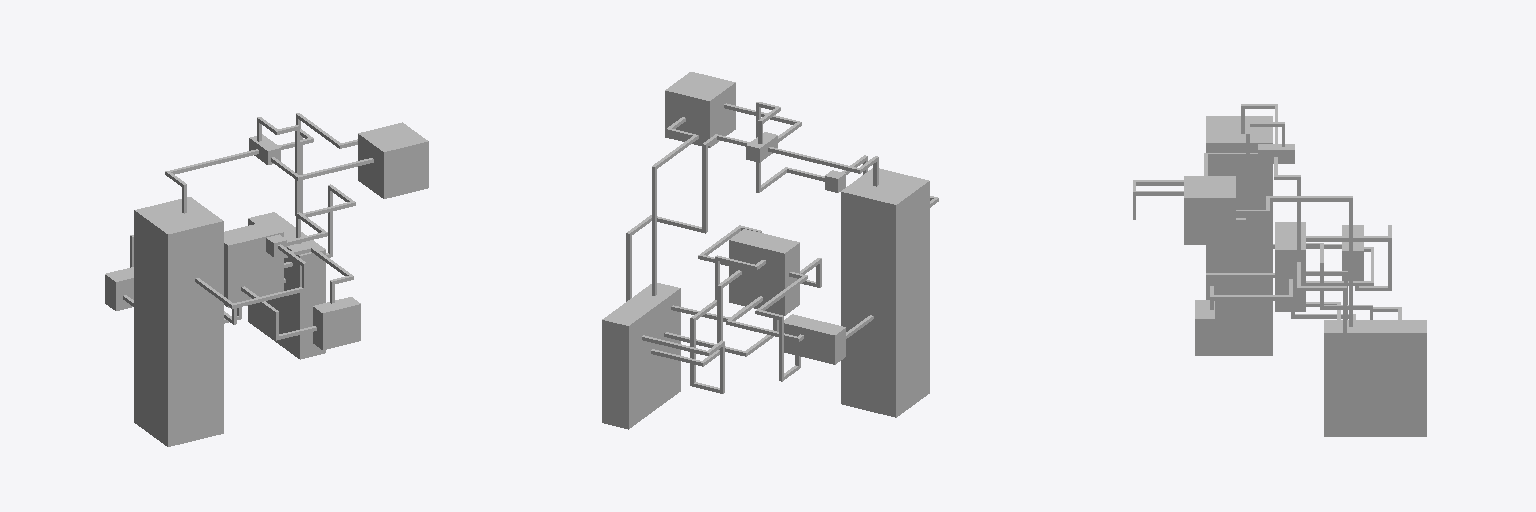
Rendered from modelA.obj.
3 views of the same model, side by side, from view 1: azimuth 30°, elevation 25°; view 2: azimuth 150°, elevation 25°; view 3: azimuth 270°, elevation 25° (orthographic).
Visible parts, largest first — view 1: group[number redacted], group[number redacted], group[number redacted], group[number redacted], group[number redacted], group[number redacted], group[number redacted]; view 2: group[number redacted], group[number redacted], group[number redacted], group[number redacted], group[number redacted], group[number redacted], group[number redacted]; view 3: group[number redacted], group[number redacted], group[number redacted], group[number redacted], group[number redacted], group[number redacted], group[number redacted].
Boxes of the visible parts, <box> form: group[number redacted]: <box>134,197,223,446</box>; group[number redacted]: <box>248,212,325,359</box>; group[number redacted]: <box>358,122,428,198</box>; group[number redacted]: <box>224,221,283,307</box>; group[number redacted]: <box>313,297,360,349</box>; group[number redacted]: <box>105,267,133,310</box>; group[number redacted]: <box>249,134,280,164</box>; group[number redacted]: <box>841,168,929,417</box>; group[number redacted]: <box>602,283,680,429</box>; group[number redacted]: <box>729,229,799,315</box>; group[number redacted]: <box>665,72,735,147</box>; group[number redacted]: <box>784,314,845,364</box>; group[number redacted]: <box>652,165,656,295</box>; group[number redacted]: <box>746,132,777,162</box>; group[number redacted]: <box>1324,320,1426,436</box>; group[number redacted]: <box>1206,116,1272,355</box>; group[number redacted]: <box>1184,176,1235,244</box>; group[number redacted]: <box>1275,222,1305,311</box>; group[number redacted]: <box>1195,300,1214,355</box>; group[number redacted]: <box>1342,225,1363,280</box>; group[number redacted]: <box>1258,144,1294,163</box>.
Bounding box in the file's own units: 1.48 × 1.53 × 1.51.